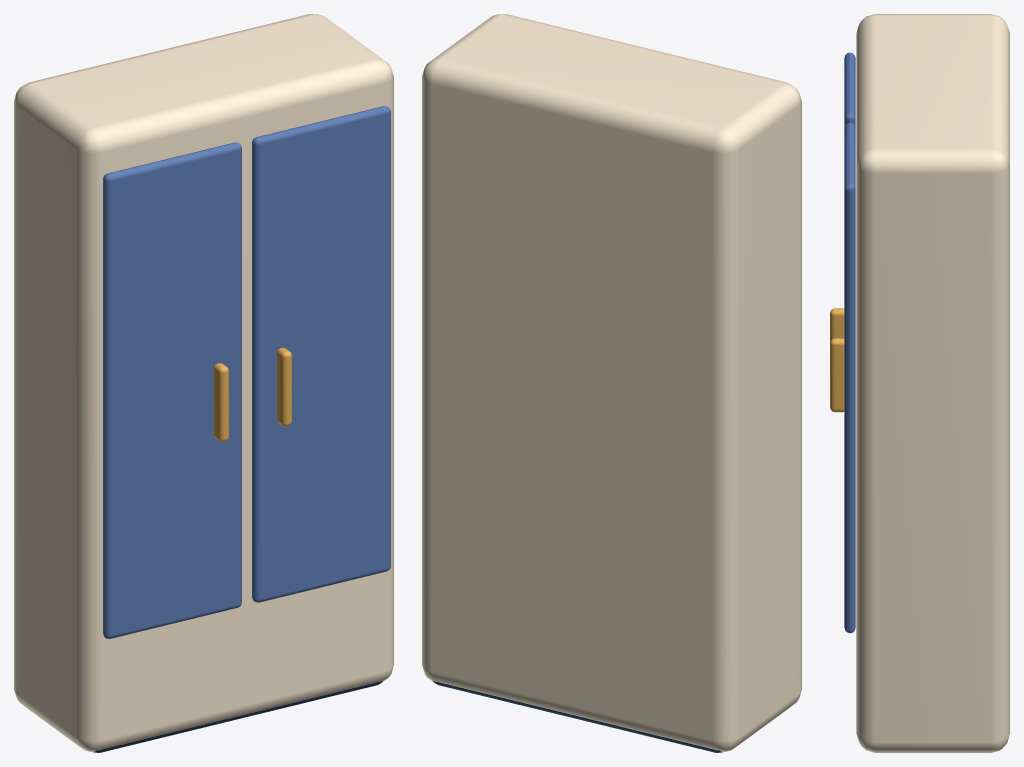
The model's file is cabinet.glb.
3 views of the same model, side by side, from view 1: azimuth 30°, elevation 25°; view 2: azimuth 150°, elevation 25°; view 3: azimuth 270°, elevation 25° (orthographic). The views are drawn at different scales.
Visible parts, largest first — view 1: Cabinet, Blue door.001, Blue door, Door handle.001, Door handle, Cabinet plinth; view 2: Cabinet, Cabinet plinth; view 3: Cabinet, Blue door.001, Door handle.001, Blue door, Door handle.
Part boxes in pixels (box(x1,y1,x2,y2)): Cabinet: box(14, 14, 393, 751); Blue door.001: box(252, 106, 390, 602); Blue door: box(103, 142, 241, 638); Door handle.001: box(276, 347, 291, 426); Door handle: box(213, 363, 228, 441); Cabinet plinth: box(92, 681, 382, 752); Cabinet: box(422, 14, 801, 751); Cabinet plinth: box(433, 681, 723, 752); Cabinet: box(856, 14, 1009, 752); Blue door.001: box(844, 123, 855, 633); Door handle.001: box(830, 338, 844, 412); Blue door: box(844, 52, 855, 127); Door handle: box(830, 308, 844, 341).
Bounding box in the file's own units: 1.1 × 2.08 × 0.5625.
